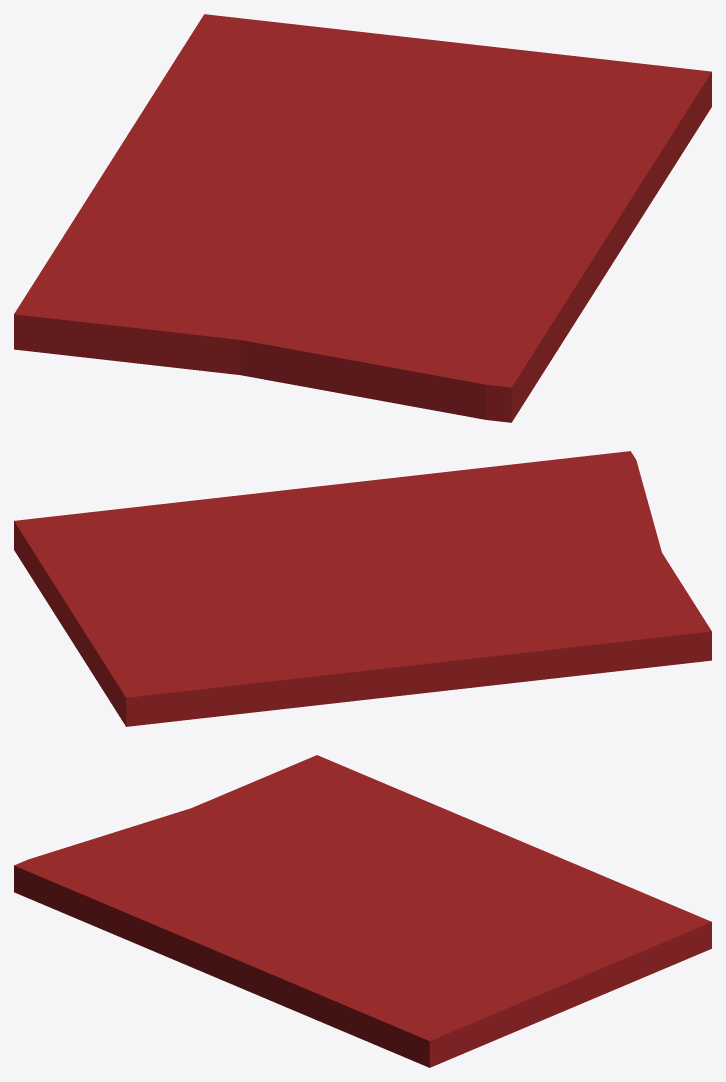
The model's file is ground2.glb.
3 renders of one model, top to bottom at view 1: azimuth 30°, elevation 25°; view 2: azimuth 150°, elevation 25°; view 3: azimuth 270°, elevation 25°, orthographic. The views are drawn at different scales.
Bounding box in the file's own units: 11.46 × 0.5 × 11.81.
